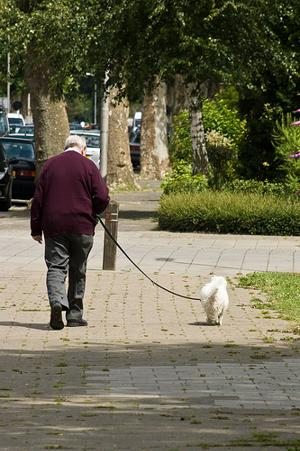person: (31, 134, 110, 325)
